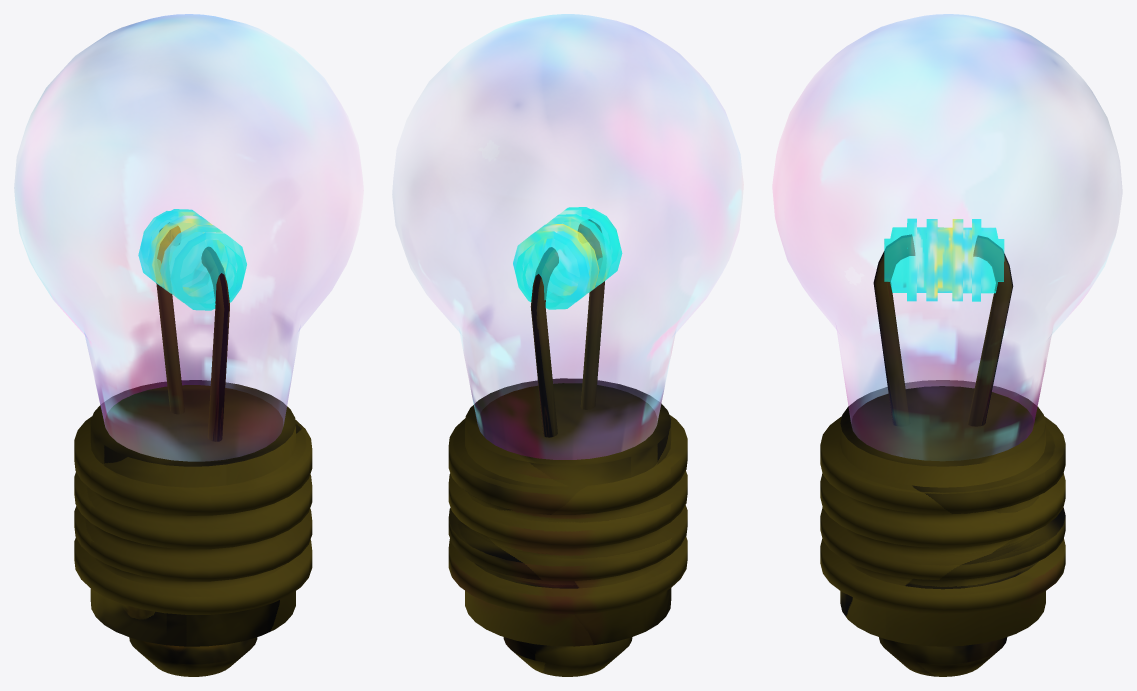
The model's file is LightBulb.glb.
3 views of the same model, side by side, from view 1: azimuth 30°, elevation 25°; view 2: azimuth 150°, elevation 25°; view 3: azimuth 270°, elevation 25° (orthographic).
Visible parts, largest first — view 1: Object_2, Object_3; view 2: Object_2, Object_3; view 3: Object_2, Object_3.
Boxes of the visible parts, <box> form: Object_2: <box>14,14,359,461</box>; Object_3: <box>74,226,312,676</box>; Object_2: <box>392,14,743,459</box>; Object_3: <box>448,219,687,676</box>; Object_2: <box>773,14,1121,459</box>; Object_3: <box>820,234,1065,676</box>.
Size of the model in its own units: 2 by 3.95 by 2.
Materials: 2 (2 with a texture image).
